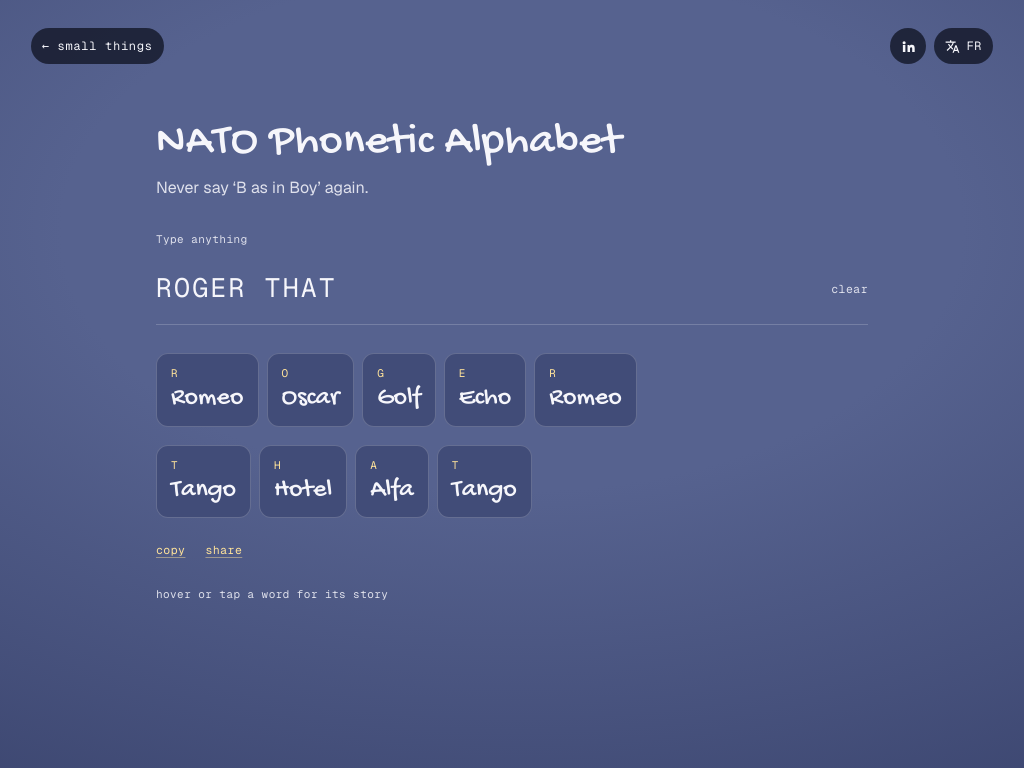
Test case: Nato › tells a word's story when its tile is chosen
Type "a" into the field labelled "Type anything".
click(488, 290); type("a")  # box [156,255,819,324]
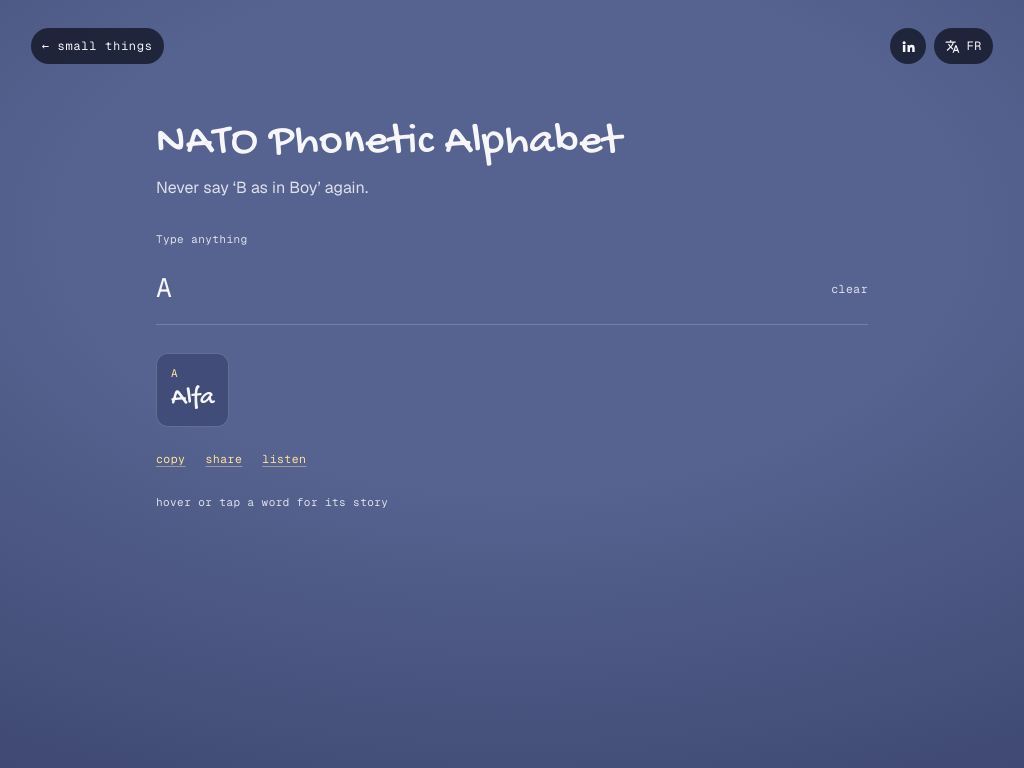
Click the button with aria-label "A for Alfa".
click(193, 390)  # box [156,353,230,427]
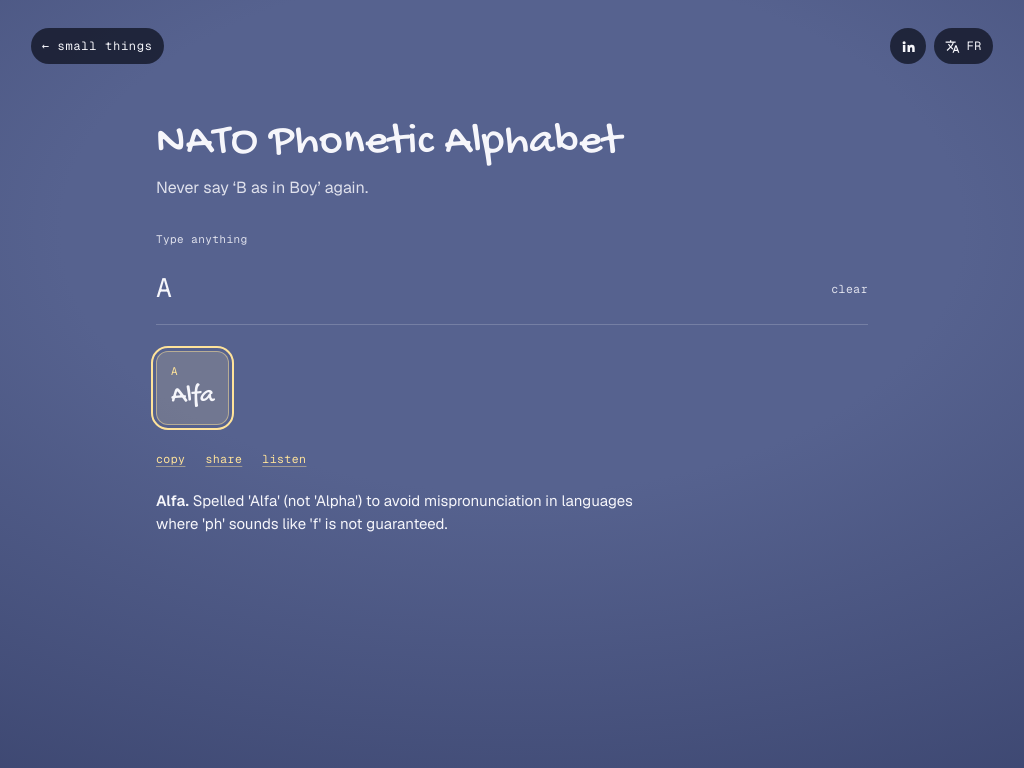
Expected: the text "Spelled 'Alfa'" is shown, [156,491,633,533]
